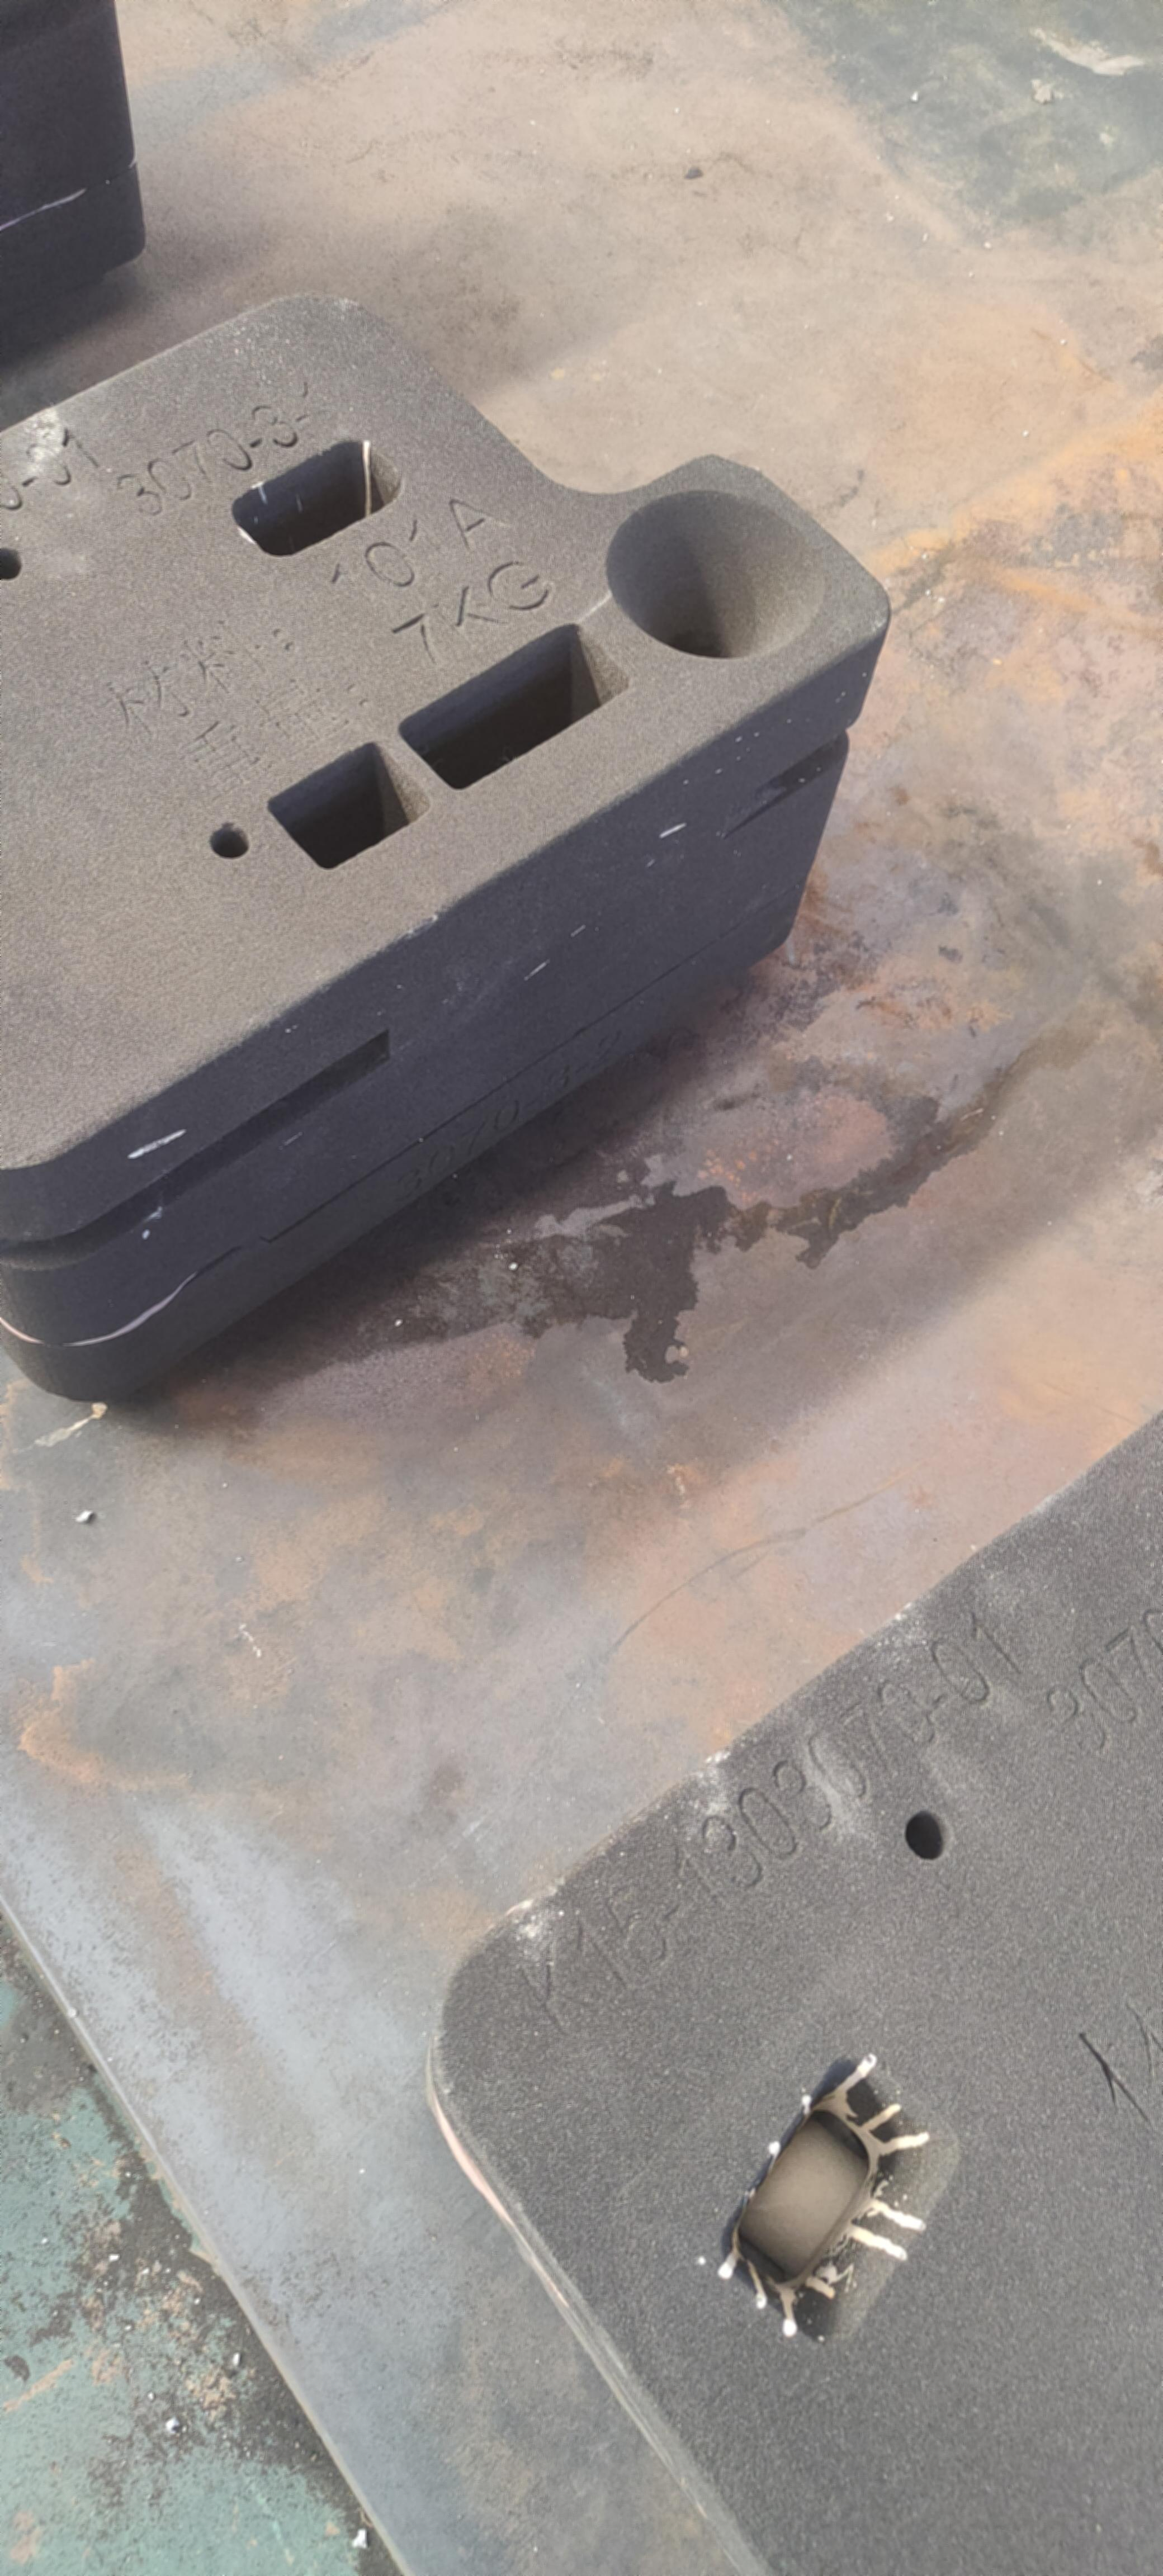pouring hole: (608, 490, 823, 659)
